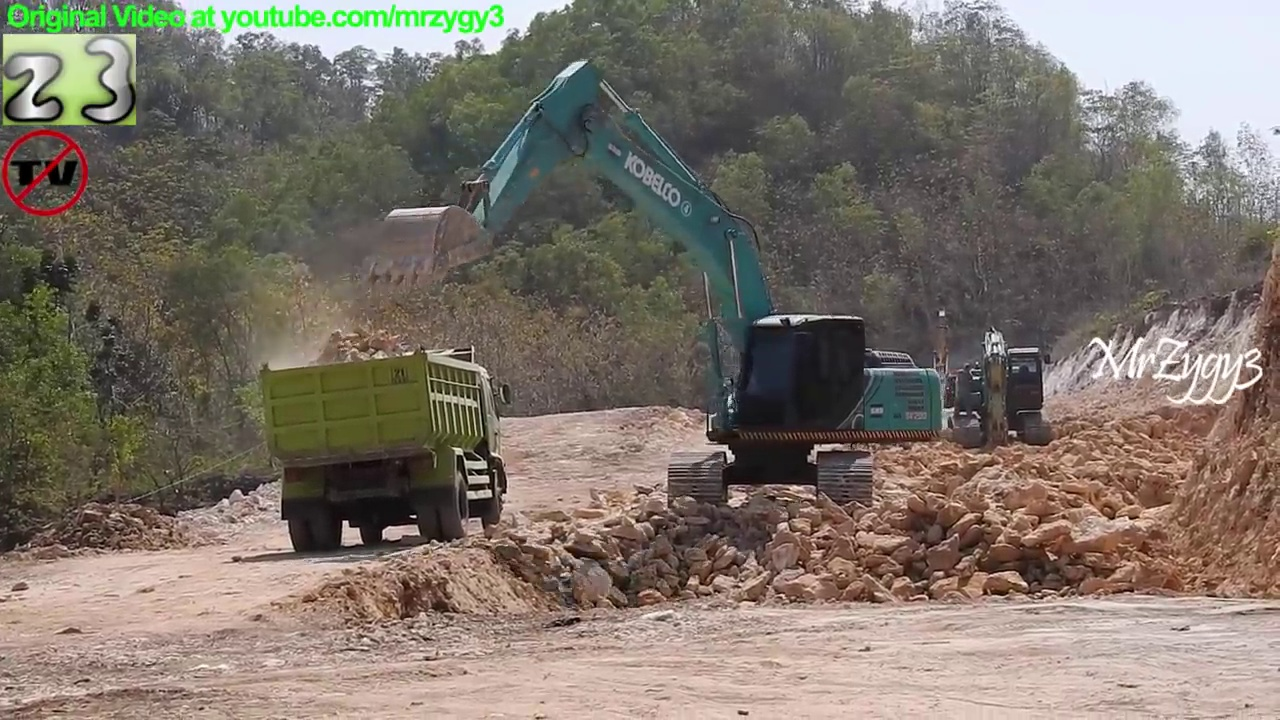excavator: (364, 54, 950, 516), (900, 303, 988, 434)
excavator breaker: (943, 316, 1058, 458)
truck: (255, 340, 516, 561)
